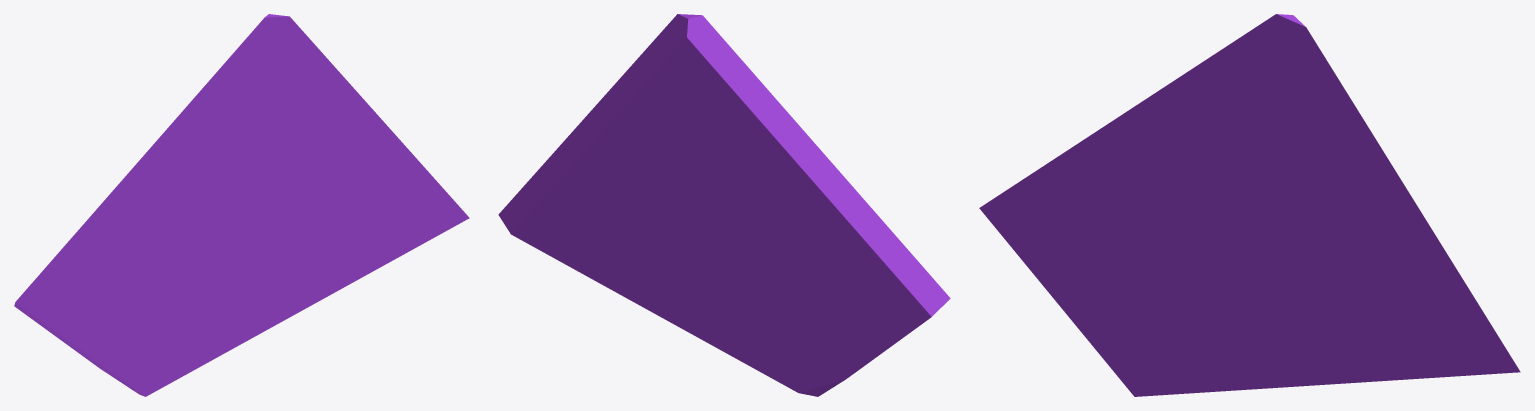
The model's file is Window_8_8_chunks.fbx.
The picture shows the model from 3 angles, left to right: view 1: azimuth 30°, elevation 25°; view 2: azimuth 150°, elevation 25°; view 3: azimuth 330°, elevation 25°; orthographic projection. The views are drawn at different scales.
Parts seen in each view (by area): view 1: Window_8_8_3, Window_8_8_2, Window_8_8_1, Window_8_8_0; view 2: Window_8_8_3, Window_8_8_2, Window_8_8_1, Window_8_8_0; view 3: Window_8_8_3, Window_8_8_2, Window_8_8_1, Window_8_8_0.
Boxes of the visible parts, x1,y1,x2,y2 form: Window_8_8_3: (224,127,469,348); Window_8_8_2: (153,14,387,227); Window_8_8_1: (14,218,232,396); Window_8_8_0: (46,144,198,266); Window_8_8_3: (498,123,744,358); Window_8_8_2: (580,14,812,218); Window_8_8_1: (737,245,950,396); Window_8_8_0: (732,141,919,300); Window_8_8_3: (1228,215,1520,390); Window_8_8_2: (1144,14,1422,240); Window_8_8_1: (979,184,1238,396); Window_8_8_0: (1016,100,1197,214).
Bounding box in the file's own units: 710 × 524 × 27.2.
